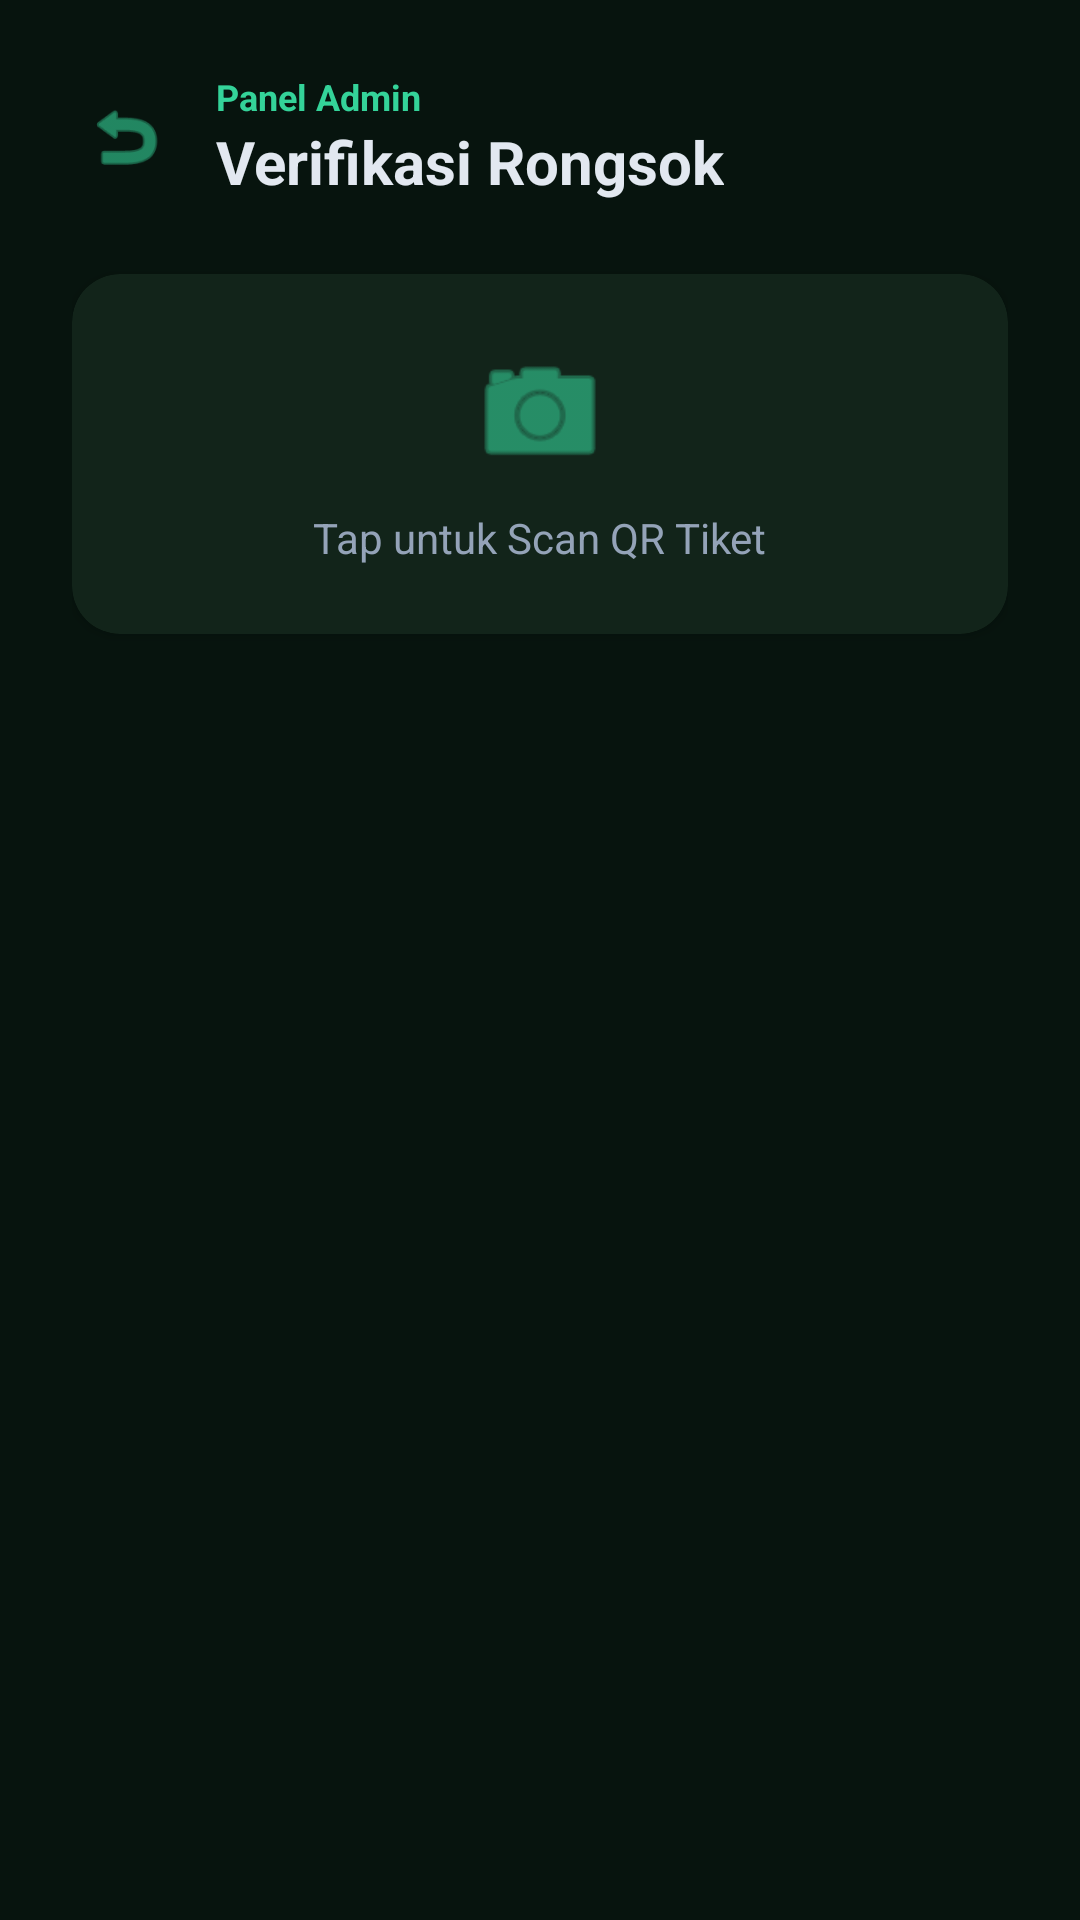

Icon bounding boxes for this 1080px x 1920px phone screenshot, format bbox=[x1, y1, x2, y2]:
camera: bbox=[484, 367, 595, 455]
revert: bbox=[97, 110, 157, 165]
